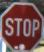Stop sign: (0, 0, 43, 51)
